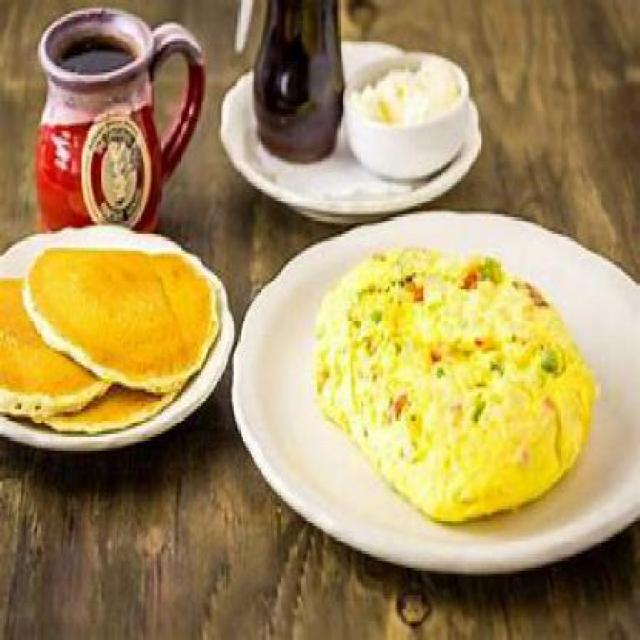ice cream: (349, 50, 460, 153)
omelette: (306, 245, 608, 532)
